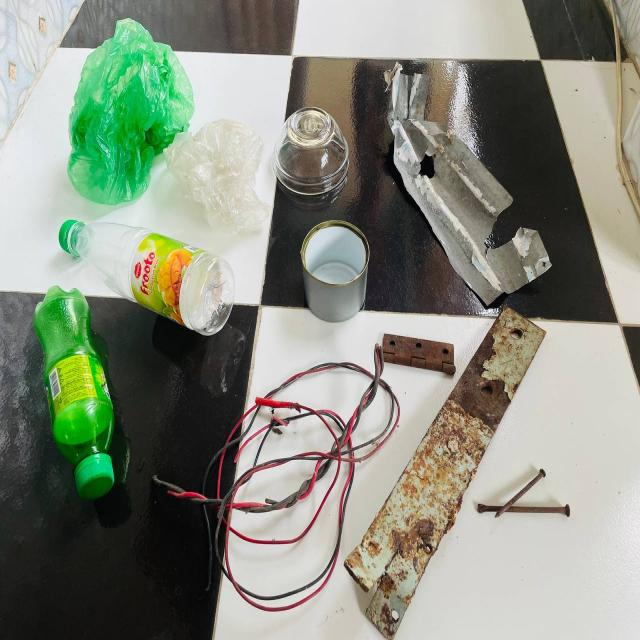Cable: (190, 342, 361, 623)
Glass: (262, 67, 356, 209)
Metal: (365, 314, 586, 638), (371, 31, 590, 310)
Plastics: (11, 182, 241, 541)
